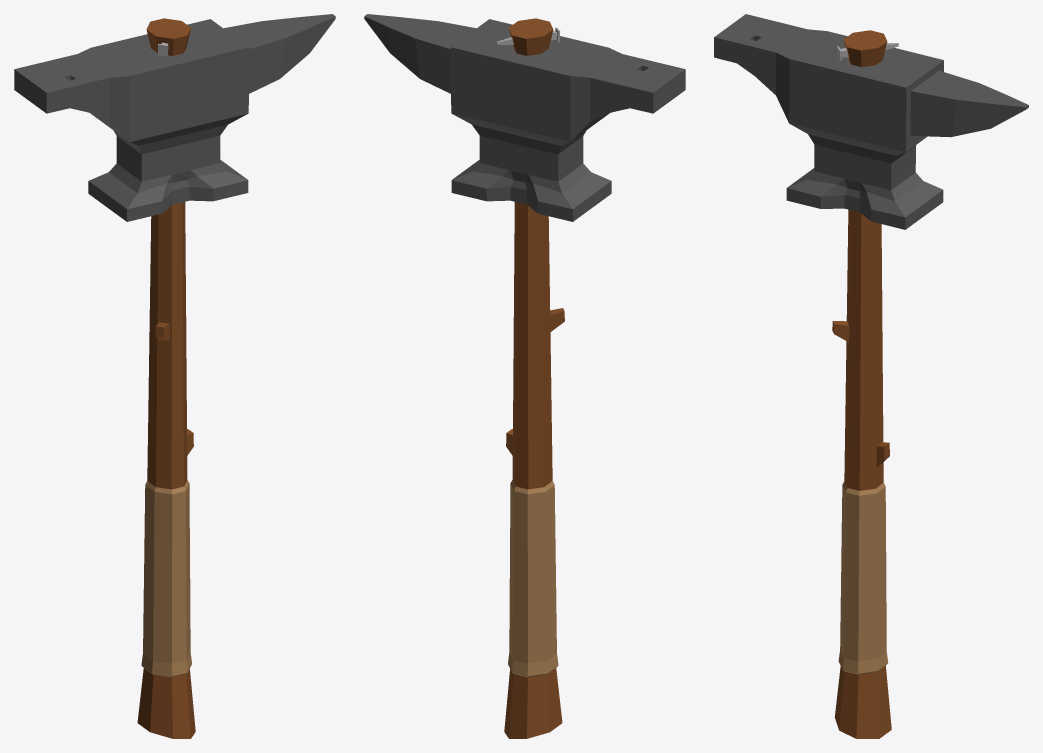
File: Low Poly Weapon Pack - by Kickin It Studios.fbx_Anvil_Hammer.glb
3 views of the same model, side by side, from view 1: azimuth 30°, elevation 25°; view 2: azimuth 150°, elevation 25°; view 3: azimuth 330°, elevation 25° (orthographic). The views are drawn at different scales.
Parts seen in each view (by area): view 1: Anvil Hammer; view 2: Anvil Hammer; view 3: Anvil Hammer.
Part boxes in pixels (x1,y1,x2,y2): Anvil Hammer: [14, 14, 335, 738]; Anvil Hammer: [364, 14, 685, 738]; Anvil Hammer: [714, 14, 1028, 738].
Size of the model in its own units: 0.963 by 2.13 by 0.213.
